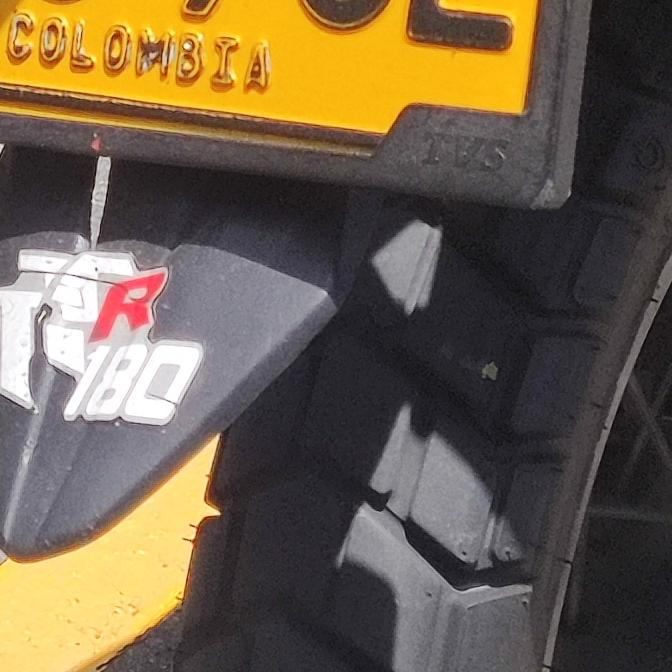plates: (0, 0, 580, 204)
